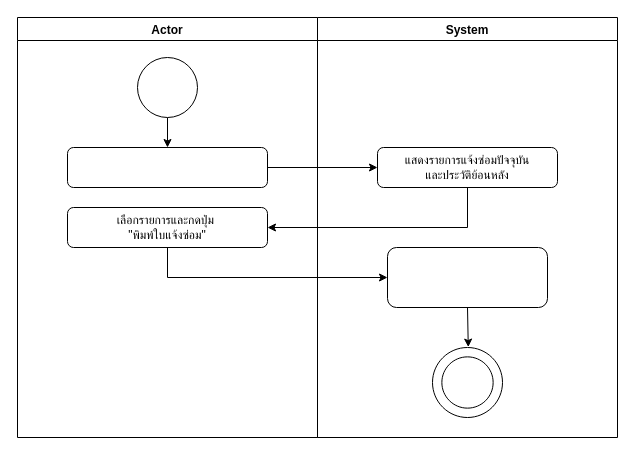
The diagram is 635 pixels wide and 455 high, and some of its shapes have lost their labels. Here are the shapes that lost their labels. From the top down, the box of each, then its label:
(66, 146, 268, 188): เลือกเมนู "แจ้งซ่อม/รายการซ่อม"
(386, 246, 548, 308): จัดรูปแบบเอกสารและแสดงหน้าต่าง (Dialog) สำหรับสั่งพิมพ์
